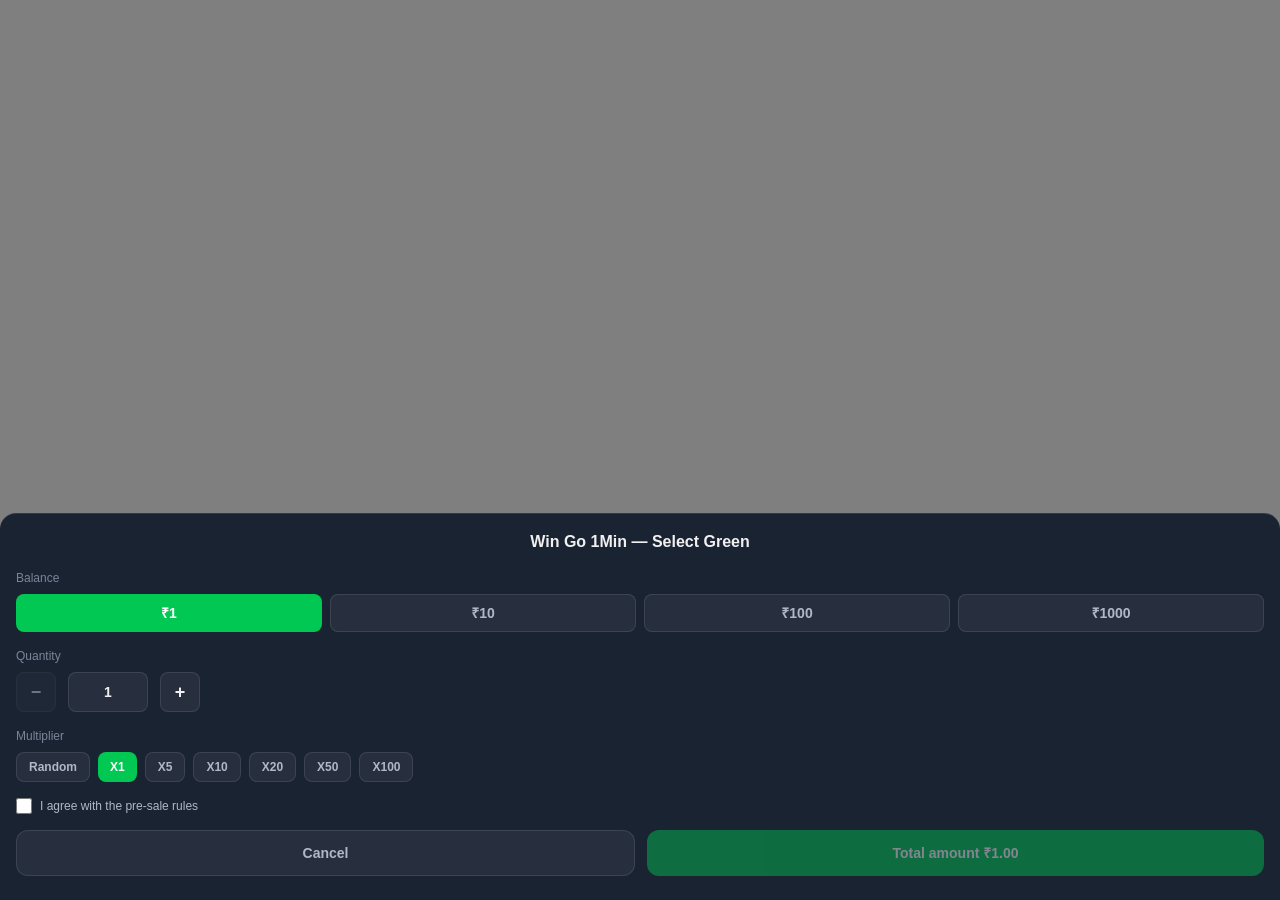
it: BetConfirmationSheet › increments quantity when plus button is clicked
The image size is (1280, 900).
Click the button named "increase quantity". click: [180, 692]
box: [160,672,200,712]
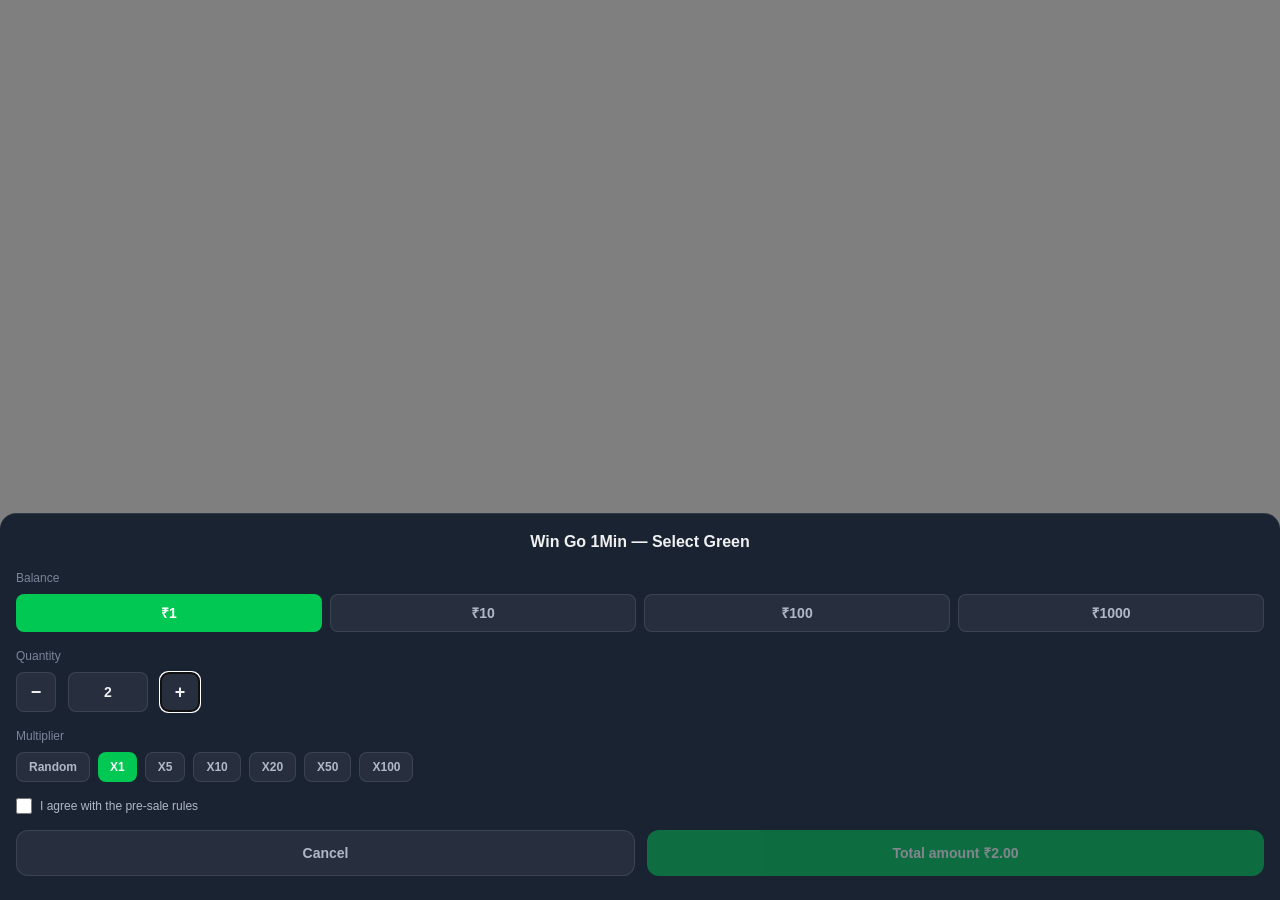
Check: the number field with test id "quantity-input" holds "2", box [68,672,148,712]
